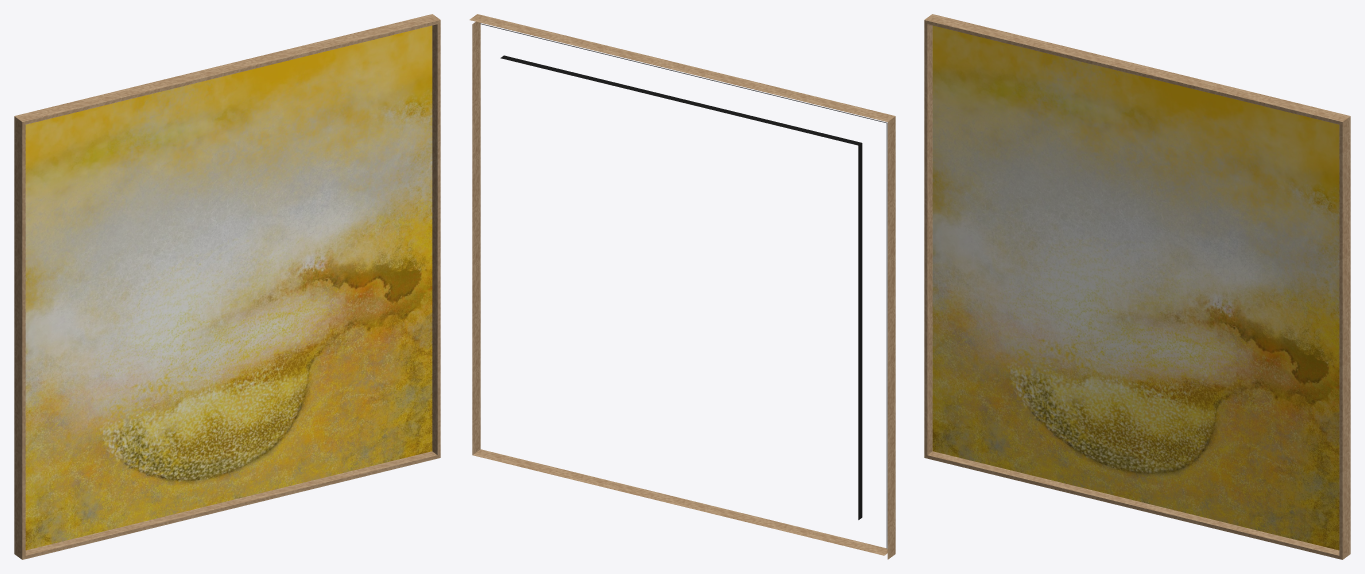
Rendered from va296_grand_caisse-chene.glb.
3 views of the same model, side by side, from view 1: azimuth 30°, elevation 25°; view 2: azimuth 150°, elevation 25°; view 3: azimuth 330°, elevation 25° (orthographic).
Visible parts, largest first — view 1: va296_grand_caisse-chene; view 2: va296_grand_caisse-chene; view 3: va296_grand_caisse-chene.
Boxes of the visible parts, box(x1,y1,x2,y2) form: va296_grand_caisse-chene: box(14, 14, 440, 559); va296_grand_caisse-chene: box(469, 14, 895, 559); va296_grand_caisse-chene: box(924, 14, 1350, 559).
Bounding box in the file's own units: 1.03 × 1.03 × 0.035.
4 materials, 2 textured.
